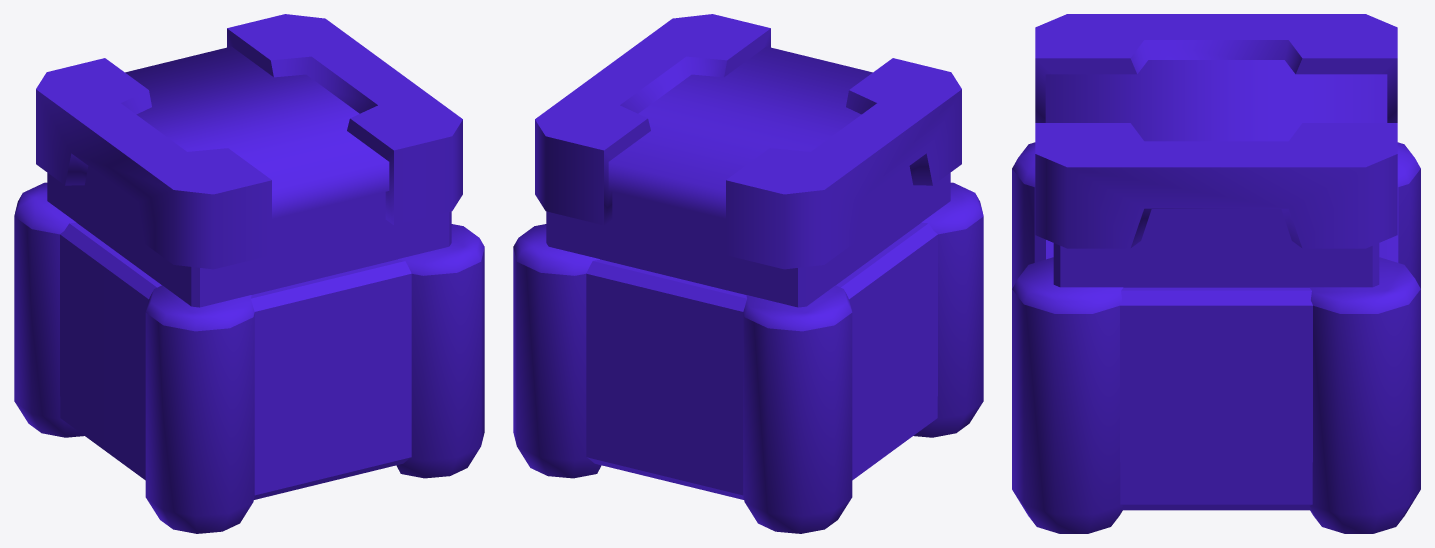
The picture shows the model from 3 angles, left to right: view 1: azimuth 30°, elevation 25°; view 2: azimuth 150°, elevation 25°; view 3: azimuth 270°, elevation 25°; orthographic projection. The views are drawn at different scales.
Parts seen in each view (by area): view 1: box1; view 2: box1; view 3: box1.
Part boxes in pixels (bbox=[...]): box1: bbox=[14, 14, 484, 533]; box1: bbox=[513, 14, 983, 533]; box1: bbox=[1012, 14, 1420, 533].
Bounding box in the file's own units: 105 × 104 × 106.
